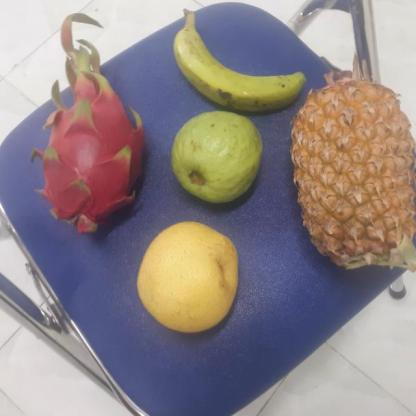banana: (175, 12, 308, 113)
guava: (171, 112, 267, 203)
pear: (134, 222, 244, 334)
pineapple: (292, 87, 415, 271)
pitaya: (40, 74, 152, 234)
